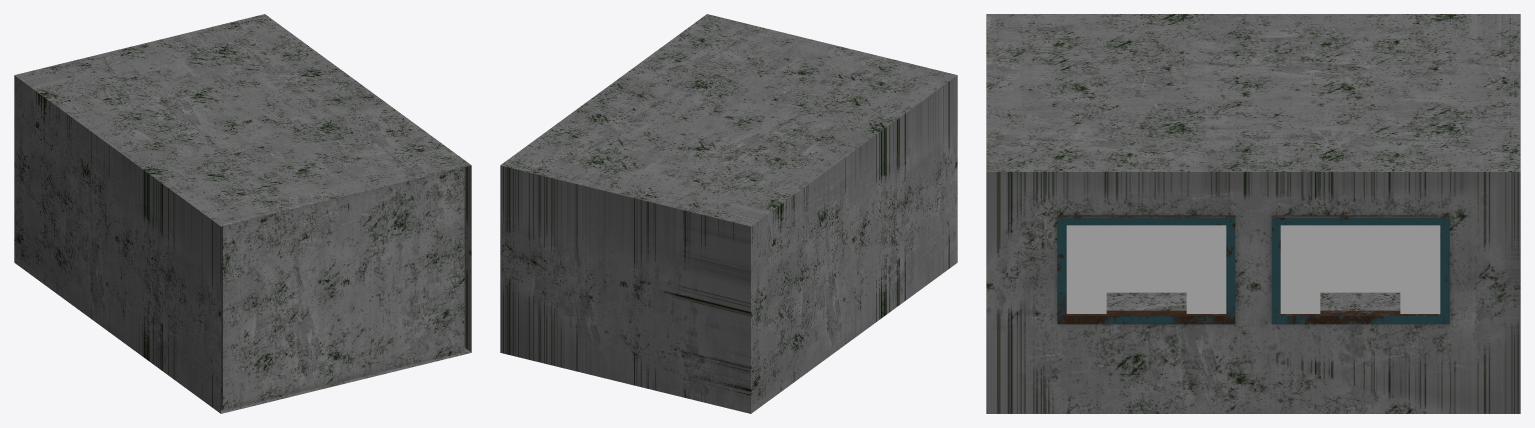
File: FoodTruckfbx.fbx
3 views of the same model, side by side, from view 1: azimuth 30°, elevation 25°; view 2: azimuth 150°, elevation 25°; view 3: azimuth 270°, elevation 25° (orthographic). The views are drawn at different scales.
Visible parts, largest first — view 1: base; view 2: base; view 3: base, windows, Cube.008.
Part boxes in pixels (bbox=[...]): base: bbox=[14, 14, 471, 413]; base: bbox=[500, 14, 957, 413]; base: bbox=[986, 14, 1520, 413]; windows: bbox=[1066, 225, 1440, 313]; Cube.008: bbox=[1057, 215, 1449, 324].
Bounding box in the file's own units: 354 × 250 × 500.
Materials: 5 (4 with a texture image).
